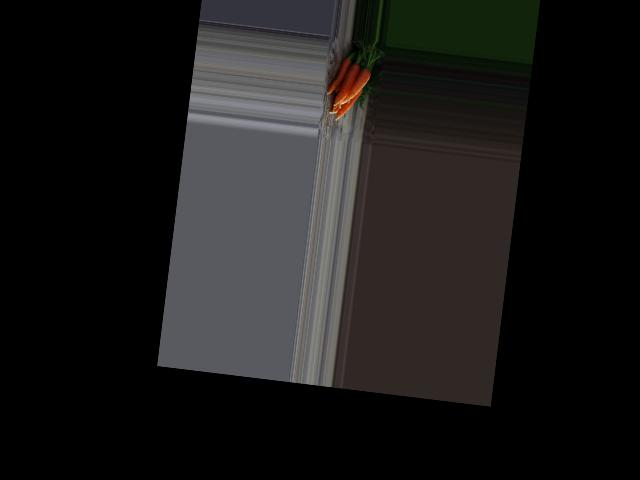carrot: (326, 55, 353, 101)
